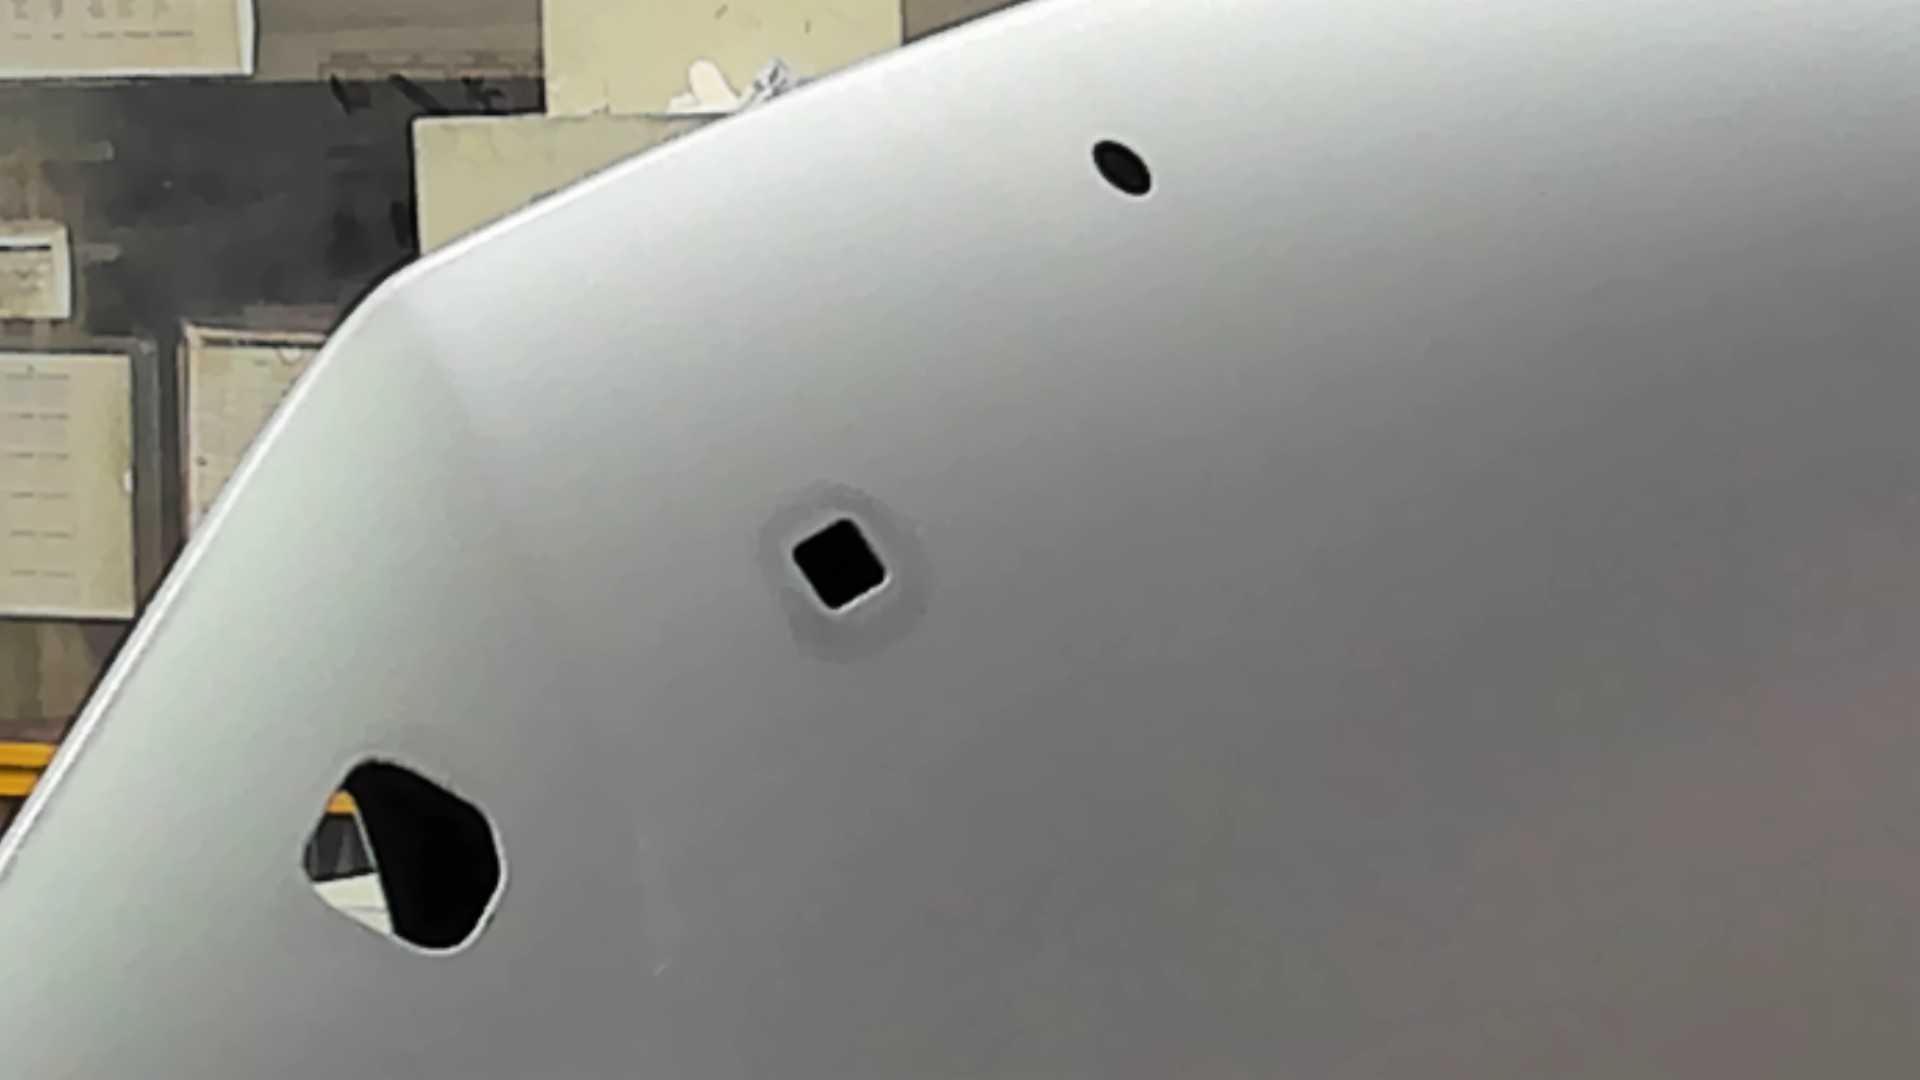chico: (1092, 138, 1155, 199)
grande: (298, 752, 506, 957)
mediano: (789, 516, 890, 615)
